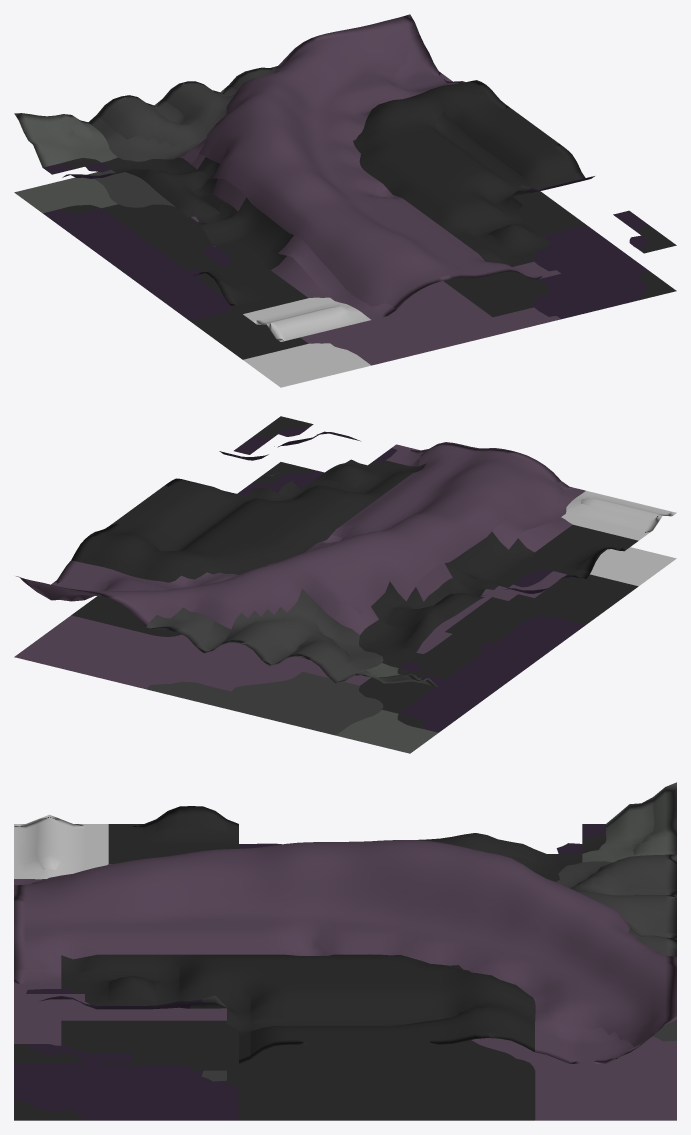
Rendered from delbld-hull-291.glb.
3 views of the same model, one above another, from view 1: azimuth 30°, elevation 25°; view 2: azimuth 150°, elevation 25°; view 3: azimuth 270°, elevation 25° (orthographic). The views are drawn at different scales.
Parts seen in each view (by area): view 1: delbld-hull-291; view 2: delbld-hull-291; view 3: delbld-hull-291.
Part boxes in pixels (box(x1,y1,x2,y2)): delbld-hull-291: box(14, 14, 676, 387); delbld-hull-291: box(14, 416, 676, 753); delbld-hull-291: box(14, 782, 676, 1120).
Bounding box in the file's own units: 2 × 0.4945 × 2.33.
Materials: 10 (10 with a texture image).
